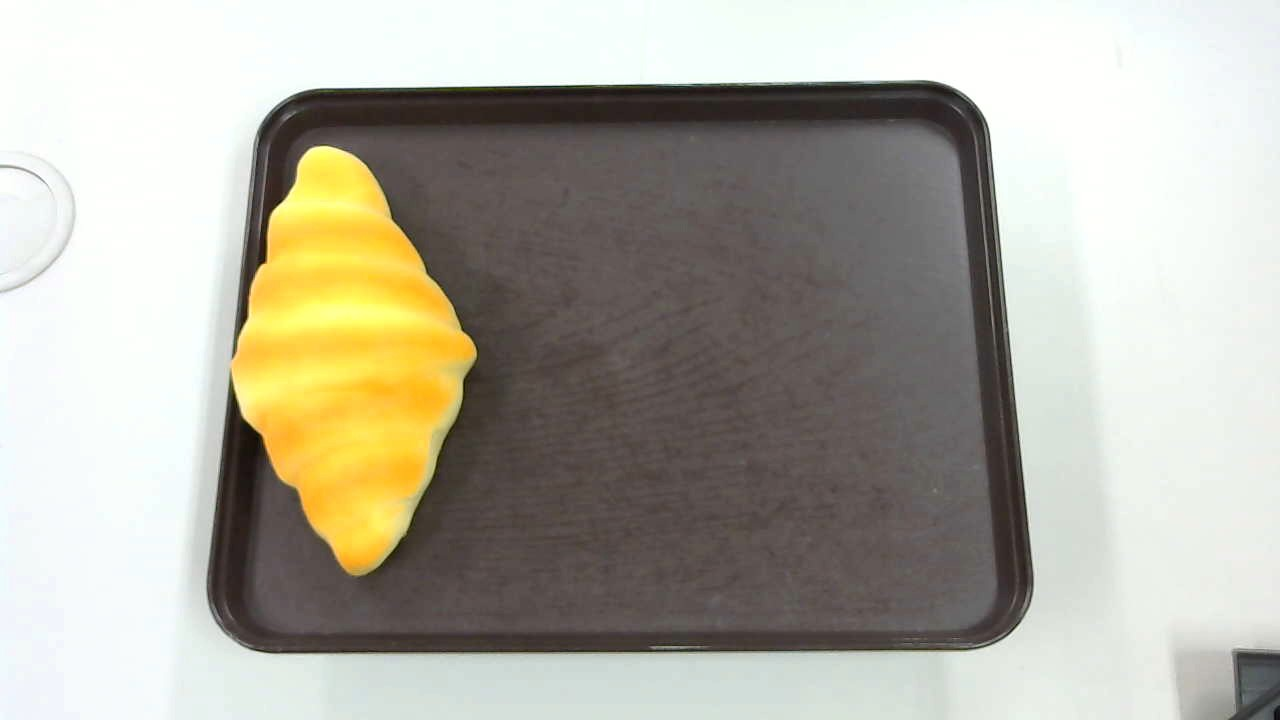croissant: (231, 144, 477, 577)
